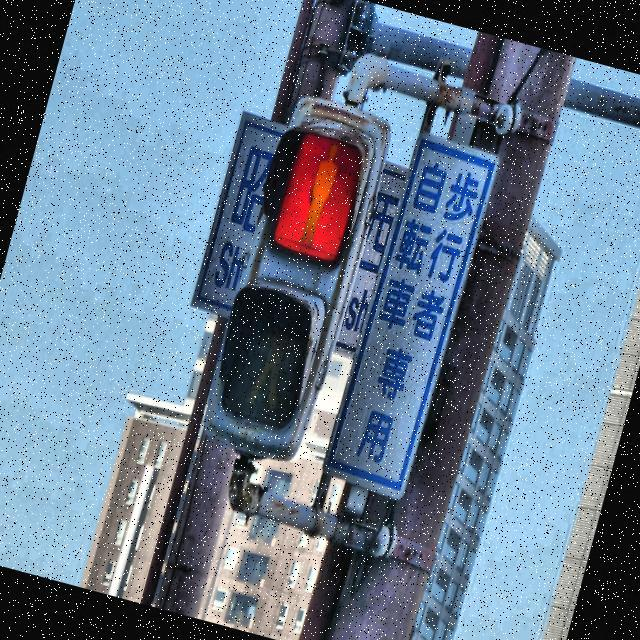red_light: (289, 132, 349, 255)
